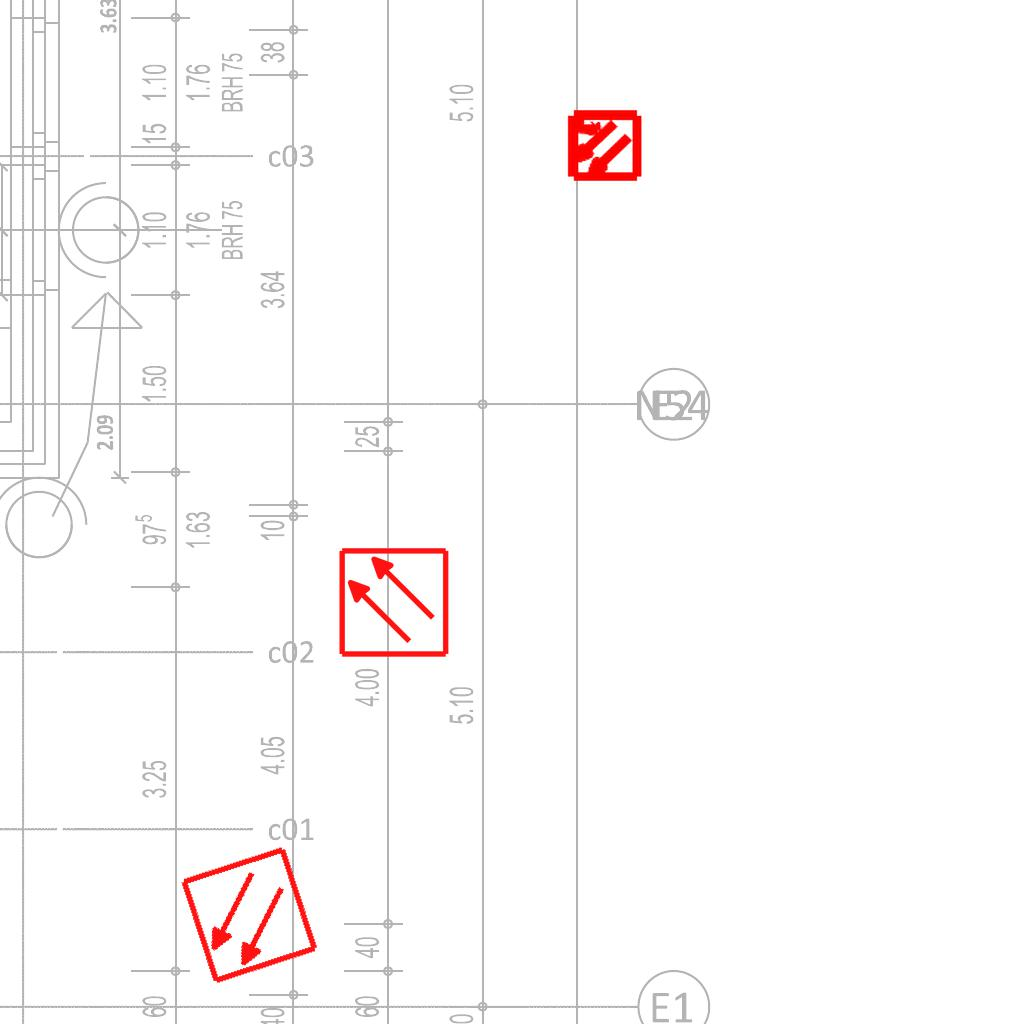OT_Multisensormelder_(Kombination_RMO_WMD): (546, 89, 659, 202)
RMO_Rauchmelder_optischer: (178, 844, 321, 987), (337, 546, 450, 659)
